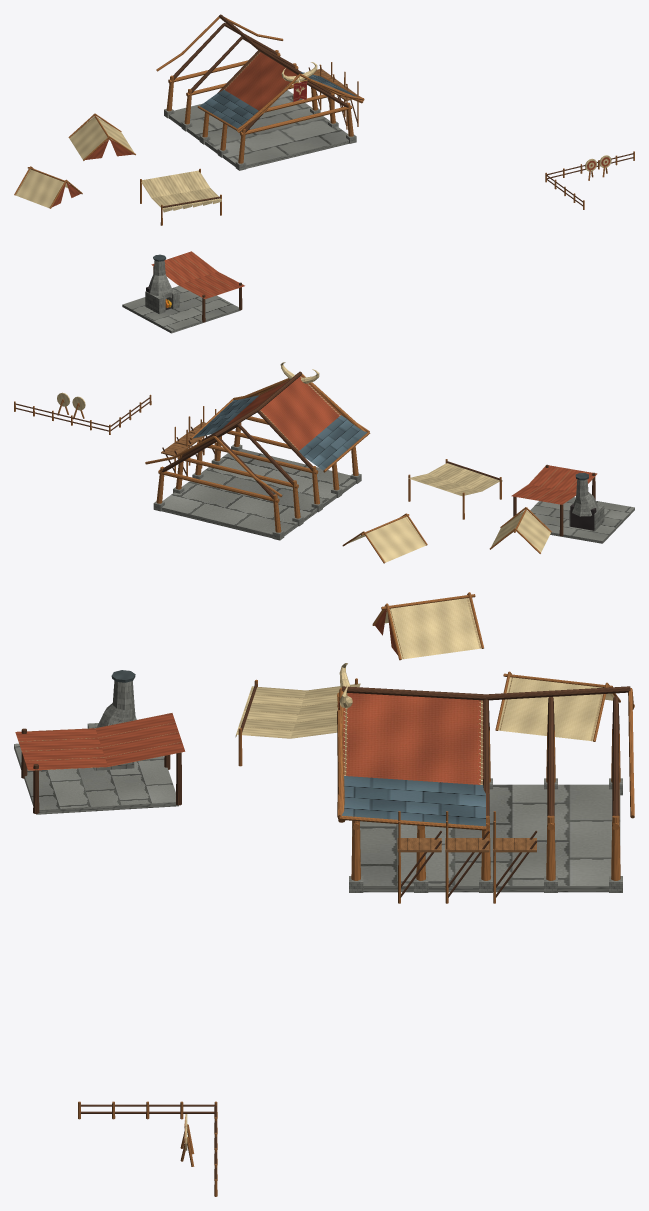
File: phase_1_lod1.glb
3 views of the same model, one above another, from view 1: azimuth 30°, elevation 25°; view 2: azimuth 150°, elevation 25°; view 3: azimuth 270°, elevation 25° (orthographic). The views are drawn at different scales.
Visible parts, largest first — view 1: hall_LOD1_F1, forge_LOD1_F1, store_LOD1_F1, house_a_LOD1_F1, house_b_LOD1_F1, training_LOD1_F1; view 2: hall_LOD1_F1, forge_LOD1_F1, store_LOD1_F1, house_a_LOD1_F1, house_b_LOD1_F1, training_LOD1_F1; view 3: hall_LOD1_F1, forge_LOD1_F1, house_a_LOD1_F1, house_b_LOD1_F1, store_LOD1_F1, training_LOD1_F1.
Boxes of the visible parts, <box> form: hall_LOD1_F1: <box>156,14,364,170</box>; forge_LOD1_F1: <box>122,251,244,333</box>; store_LOD1_F1: <box>140,168,221,225</box>; house_a_LOD1_F1: <box>68,113,135,160</box>; house_b_LOD1_F1: <box>14,166,82,208</box>; training_LOD1_F1: <box>545,151,634,209</box>; hall_LOD1_F1: <box>145,362,370,540</box>; forge_LOD1_F1: <box>511,464,634,543</box>; store_LOD1_F1: <box>408,459,502,519</box>; house_a_LOD1_F1: <box>342,513,427,563</box>; house_b_LOD1_F1: <box>489,507,551,553</box>; training_LOD1_F1: <box>14,392,151,434</box>; hall_LOD1_F1: <box>337,663,634,903</box>; forge_LOD1_F1: <box>14,670,185,814</box>; house_a_LOD1_F1: <box>495,671,620,741</box>; house_b_LOD1_F1: <box>372,592,483,660</box>; store_LOD1_F1: <box>235,678,360,766</box>; training_LOD1_F1: <box>78,1101,217,1196</box>.
Size of what is drawn, in the model's own units: 80.32 by 20.46 by 43.04.
Materials: 1 (1 with a texture image).
